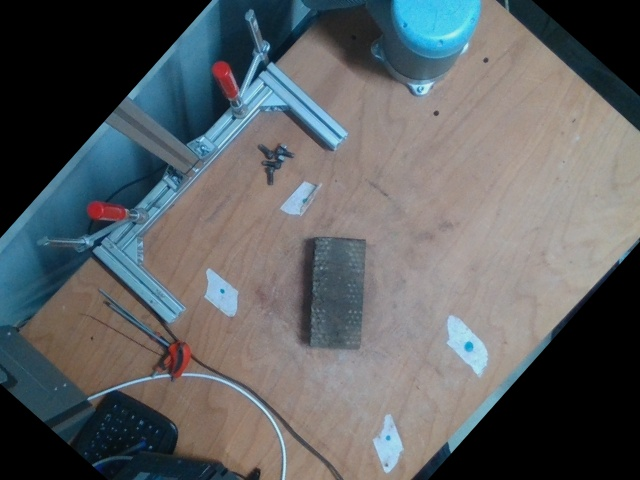brick: (310, 237, 366, 350)
